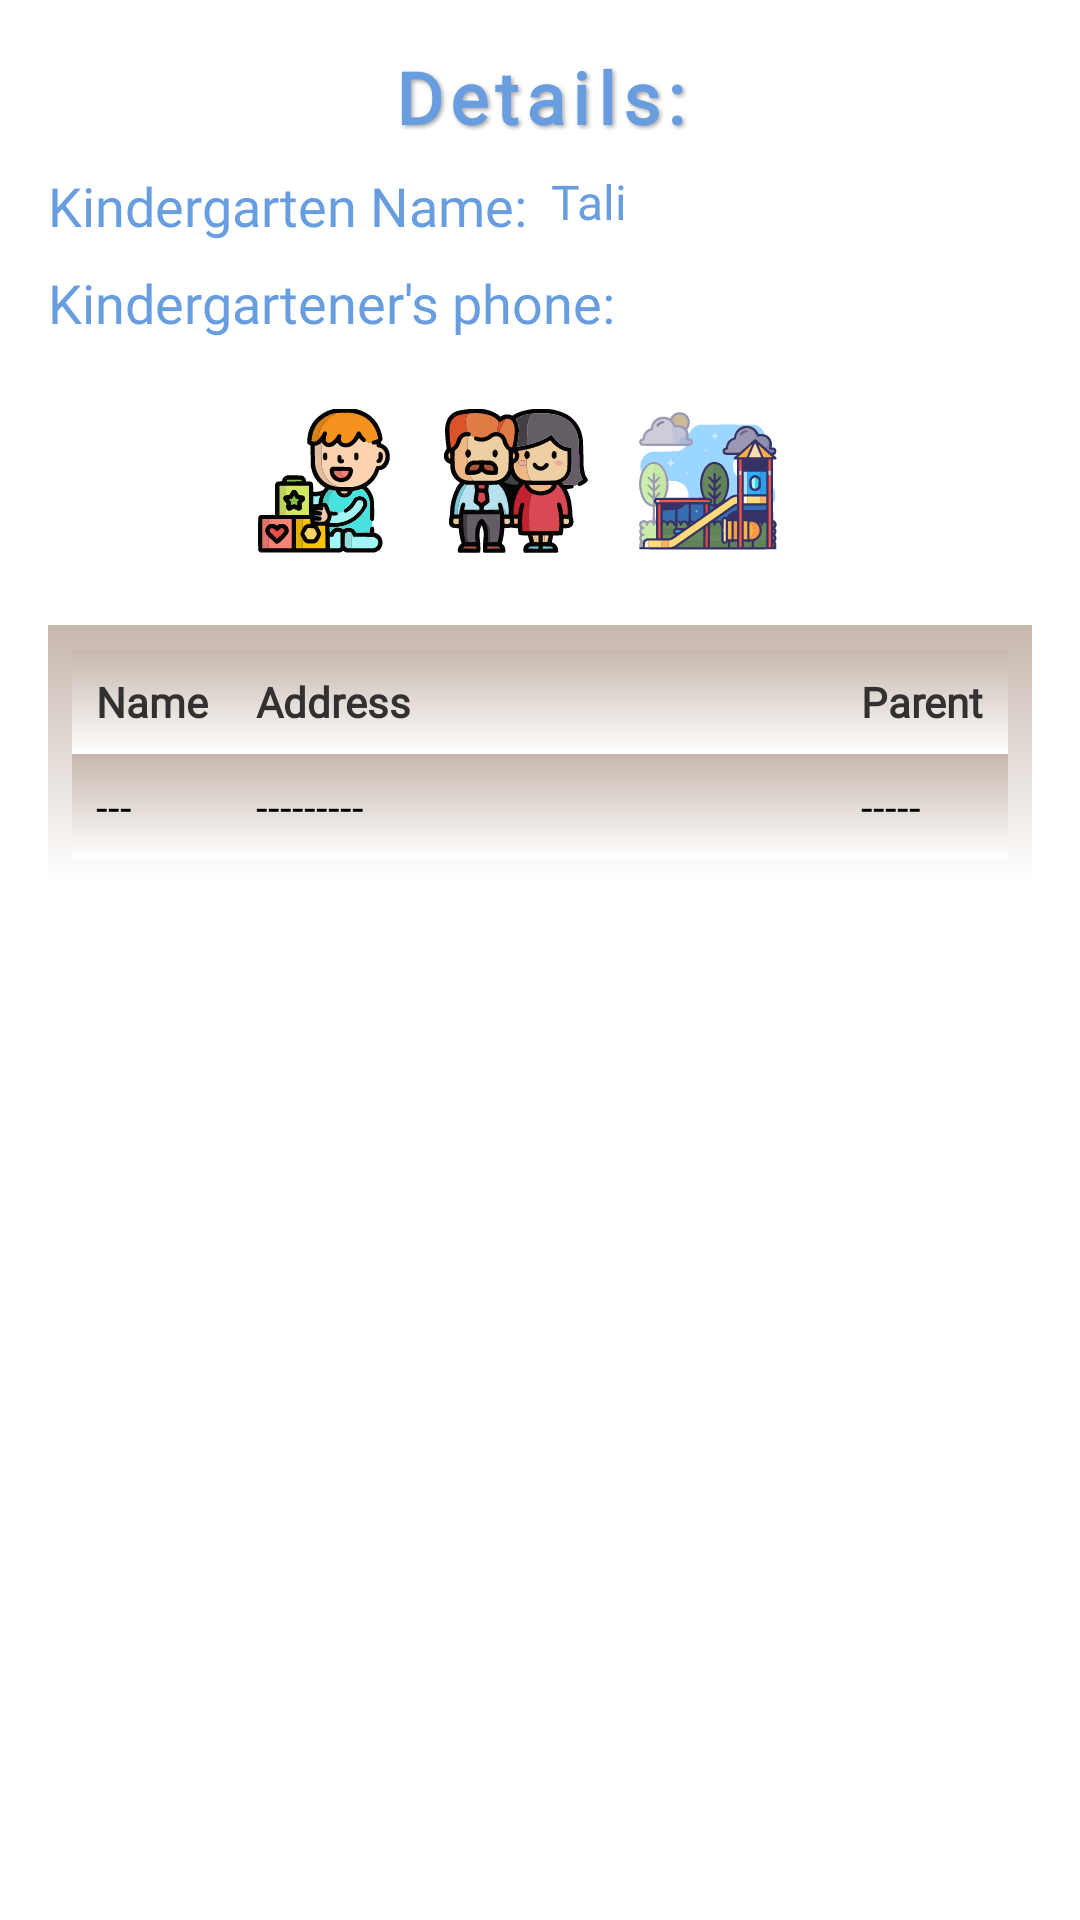

Icon bounding boxes for this 1080w x 1920h phone screenshot, format (left=x1, top=y1, right=x2, bottom=y2):
Kids: (left=258, top=409, right=390, bottom=553)
Parents: (left=444, top=409, right=588, bottom=553)
